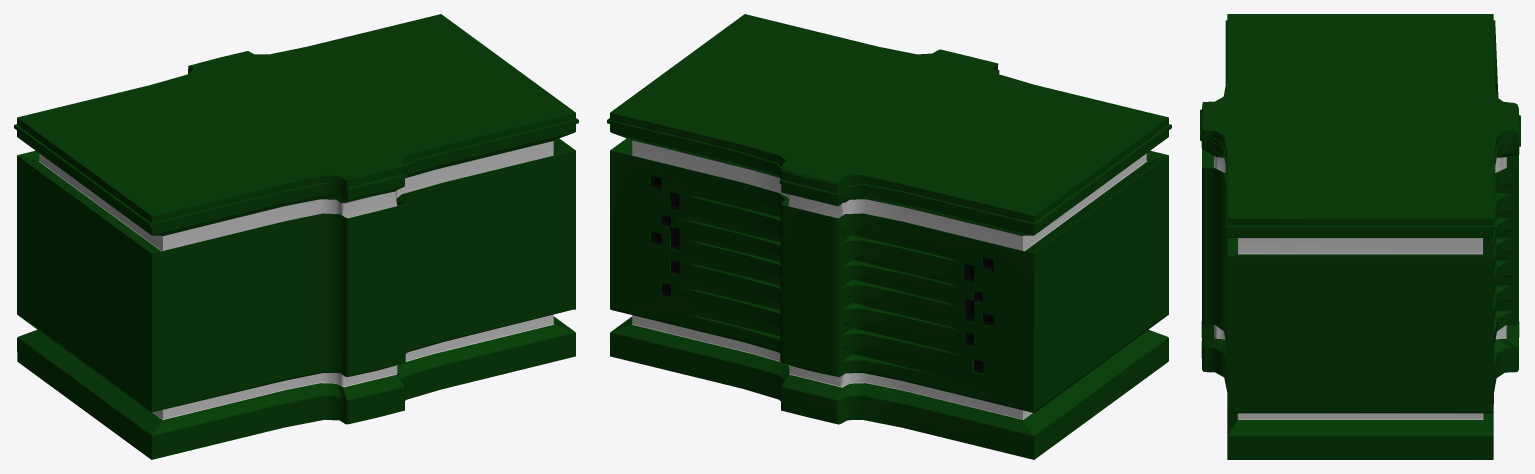
Rendered from Building_1.FBX.
3 views of the same model, side by side, from view 1: azimuth 30°, elevation 25°; view 2: azimuth 150°, elevation 25°; view 3: azimuth 270°, elevation 25° (orthographic).
Parts seen in each view (by area): view 1: Building_1; view 2: Building_1; view 3: Building_1.
Boxes of the visible parts, box(x1,y1,x2,y2) form: Building_1: box(14, 14, 578, 459); Building_1: box(607, 14, 1171, 459); Building_1: box(1200, 14, 1520, 459).
Size of what is drawn, in the model's own units: 239 by 156 by 130.
